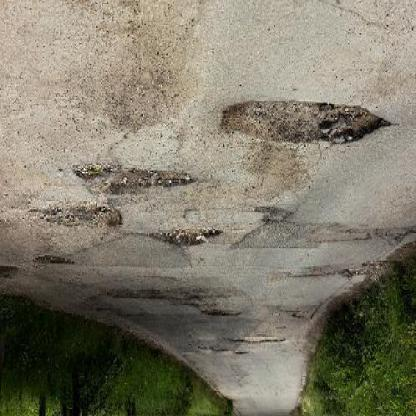pothole: (218, 100, 392, 150), (73, 162, 198, 199), (42, 204, 123, 231), (149, 230, 222, 249), (254, 203, 294, 227), (33, 256, 75, 270), (201, 309, 243, 320), (230, 338, 287, 346), (1, 267, 20, 280)
